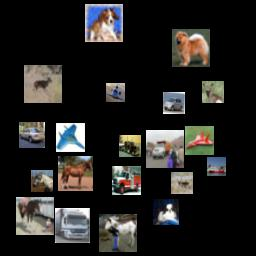airplane: (185, 126, 214, 155), (56, 123, 85, 152), (106, 83, 125, 102)
automobile: (19, 122, 45, 148), (163, 92, 185, 114)
deer: (24, 65, 62, 103), (202, 81, 224, 103), (171, 172, 193, 194)
dog: (85, 4, 123, 42), (172, 29, 210, 67), (153, 199, 179, 225)
ship: (207, 157, 226, 176)
truck: (146, 130, 184, 168), (55, 208, 90, 243), (112, 166, 141, 195), (119, 135, 141, 157)
